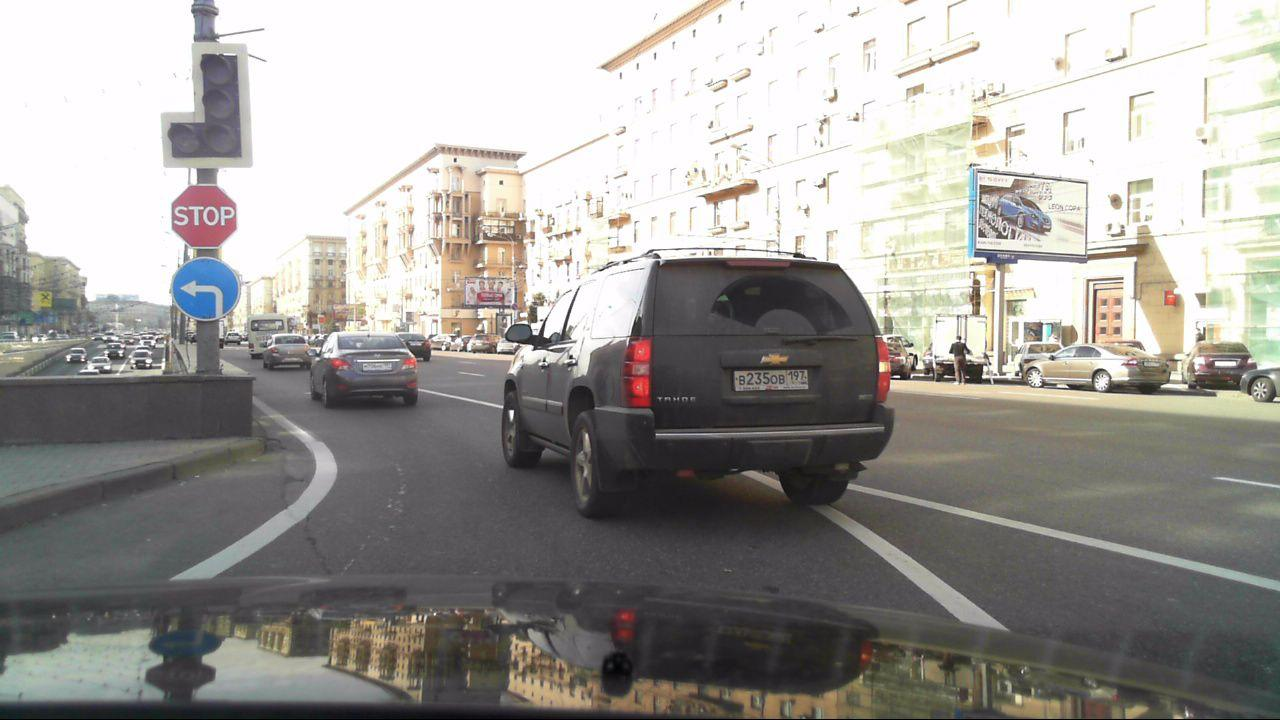2_5: (166, 176, 243, 251)
4_1_3: (170, 253, 240, 321)
